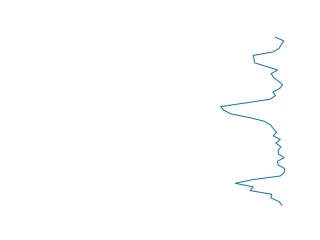underwaterNaturalLevee: (216, 37, 290, 206)
